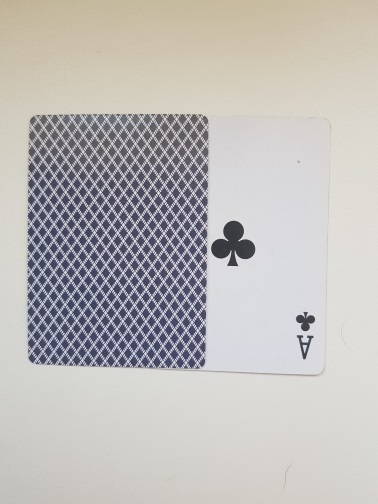ace: (136, 114, 331, 376)
